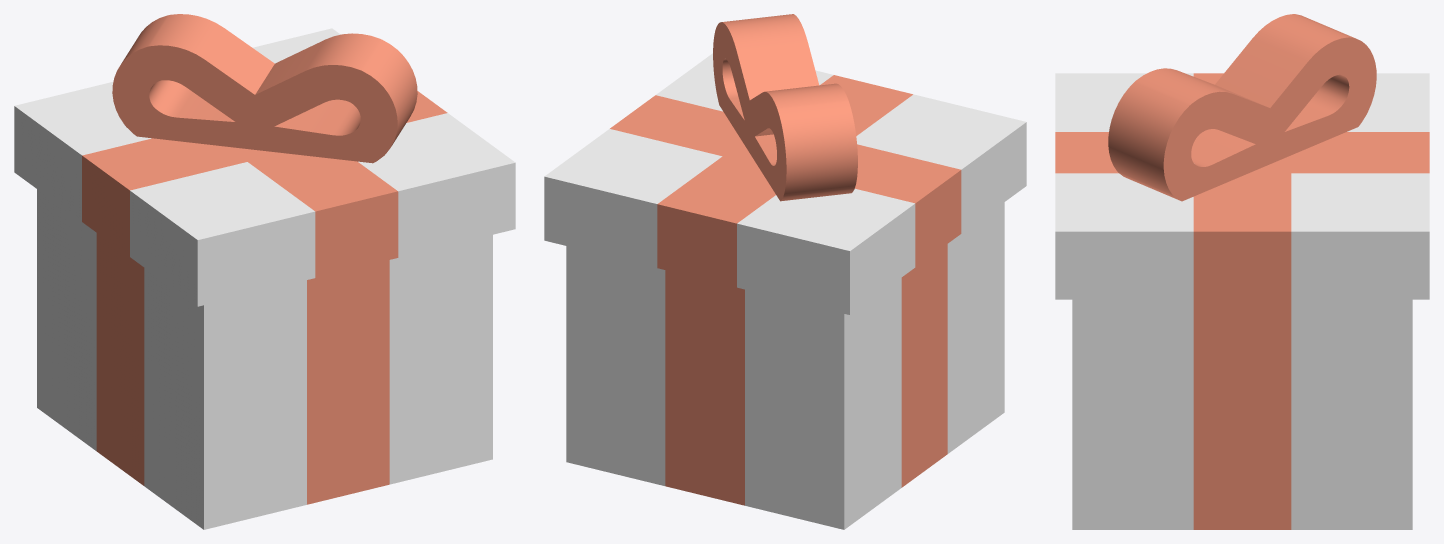
The model's file is present.glb.
The picture shows the model from 3 angles, left to right: view 1: azimuth 30°, elevation 25°; view 2: azimuth 150°, elevation 25°; view 3: azimuth 270°, elevation 25°; orthographic projection. The views are drawn at different scales.
Parts seen in each view (by area): view 1: present(Clone), lid, tie; view 2: present(Clone), lid, tie; view 3: present(Clone), lid, tie.
Part boxes in pixels (x1,y1,x2,y2): present(Clone): [37, 189, 492, 529]; lid: [14, 28, 515, 306]; tie: [112, 14, 417, 163]; present(Clone): [566, 202, 1004, 529]; lid: [544, 53, 1026, 314]; tie: [713, 14, 857, 201]; present(Clone): [1072, 299, 1412, 529]; lid: [1055, 73, 1429, 299]; tie: [1108, 14, 1376, 201].
Size of the model in its own units: 0.3727 by 0.4412 by 0.3727.
